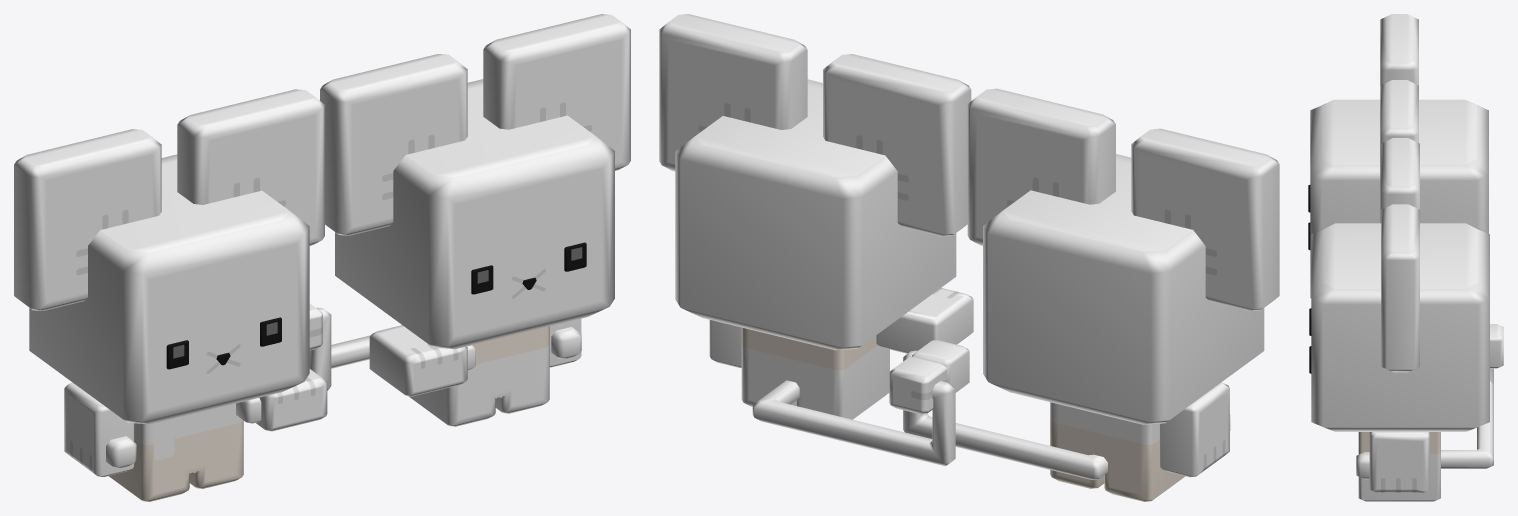
File: model_shiny.obj
3 renders of one model, left to right at view 1: azimuth 30°, elevation 25°; view 2: azimuth 150°, elevation 25°; view 3: azimuth 270°, elevation 25°, orthographic. The views are drawn at different scales.
Visible parts, largest first — view 1: 0924_tandemaus_shiny; view 2: 0924_tandemaus_shiny; view 3: 0924_tandemaus_shiny.
Boxes of the visible parts, x1,y1,x2,y2 form: 0924_tandemaus_shiny: [14, 14, 630, 501]; 0924_tandemaus_shiny: [659, 14, 1279, 501]; 0924_tandemaus_shiny: [1308, 14, 1503, 501].
Size of the model in its own units: 2.54 by 1.4 by 0.8632.
Materials: 1 (1 with a texture image).
